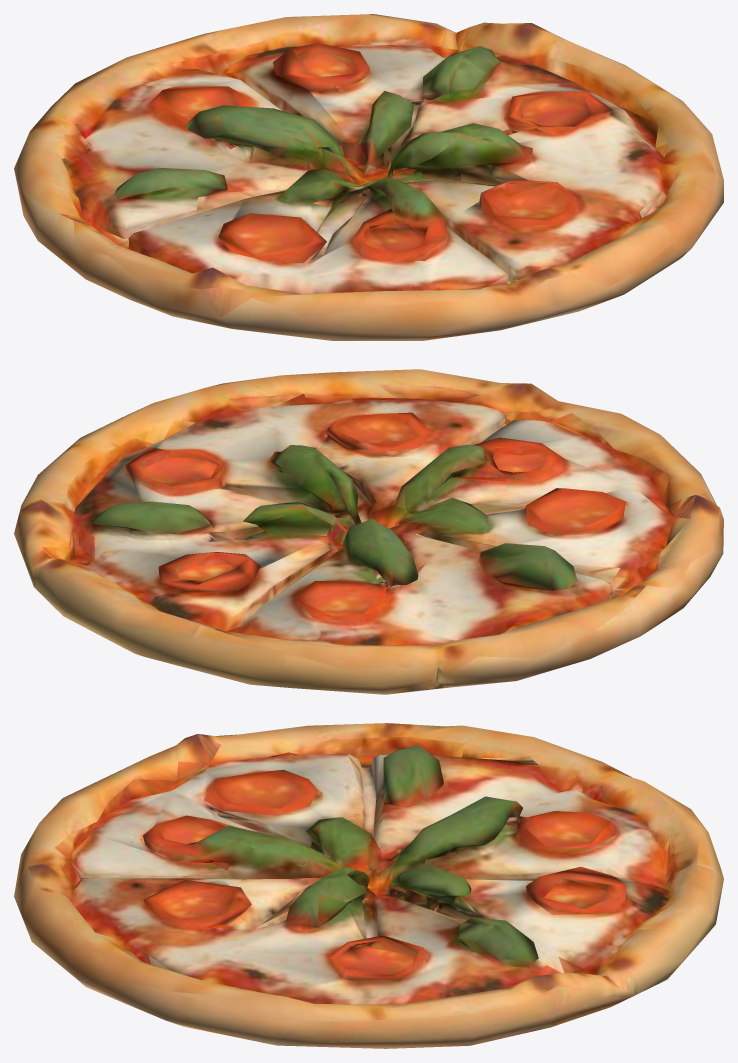
File: pizza.glb
The picture shows the model from 3 angles, top to bottom: view 1: azimuth 30°, elevation 25°; view 2: azimuth 150°, elevation 25°; view 3: azimuth 270°, elevation 25°; orthographic projection.
Visible parts, largest first — view 1: Mesh_0; view 2: Mesh_0; view 3: Mesh_0.
Part boxes in pixels (x1,y1,x2,y2): Mesh_0: [14, 14, 723, 340]; Mesh_0: [14, 369, 723, 694]; Mesh_0: [14, 723, 723, 1048].
Size of the model in its own units: 0.3397 by 0.0345 by 0.34.
Materials: 1 (1 with a texture image).
